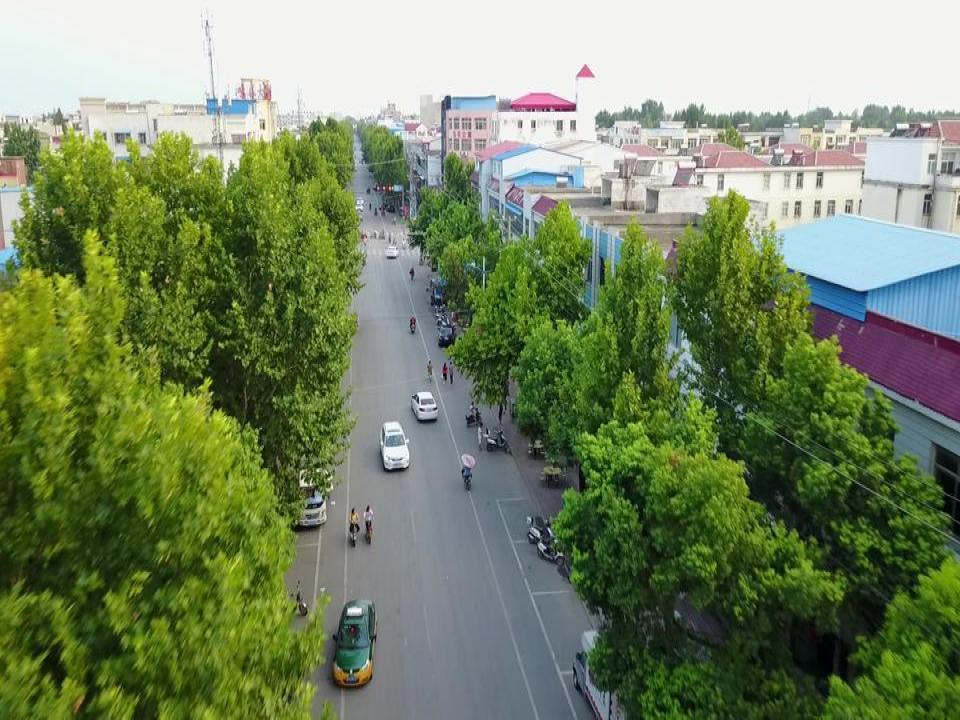car: (332, 597, 378, 688), (379, 420, 410, 471), (410, 391, 438, 420), (438, 324, 457, 347), (386, 245, 400, 259), (355, 211, 363, 220), (356, 196, 364, 205), (386, 204, 395, 212), (355, 202, 363, 210), (379, 200, 386, 209)
truck: (573, 629, 673, 720), (297, 444, 327, 527)
